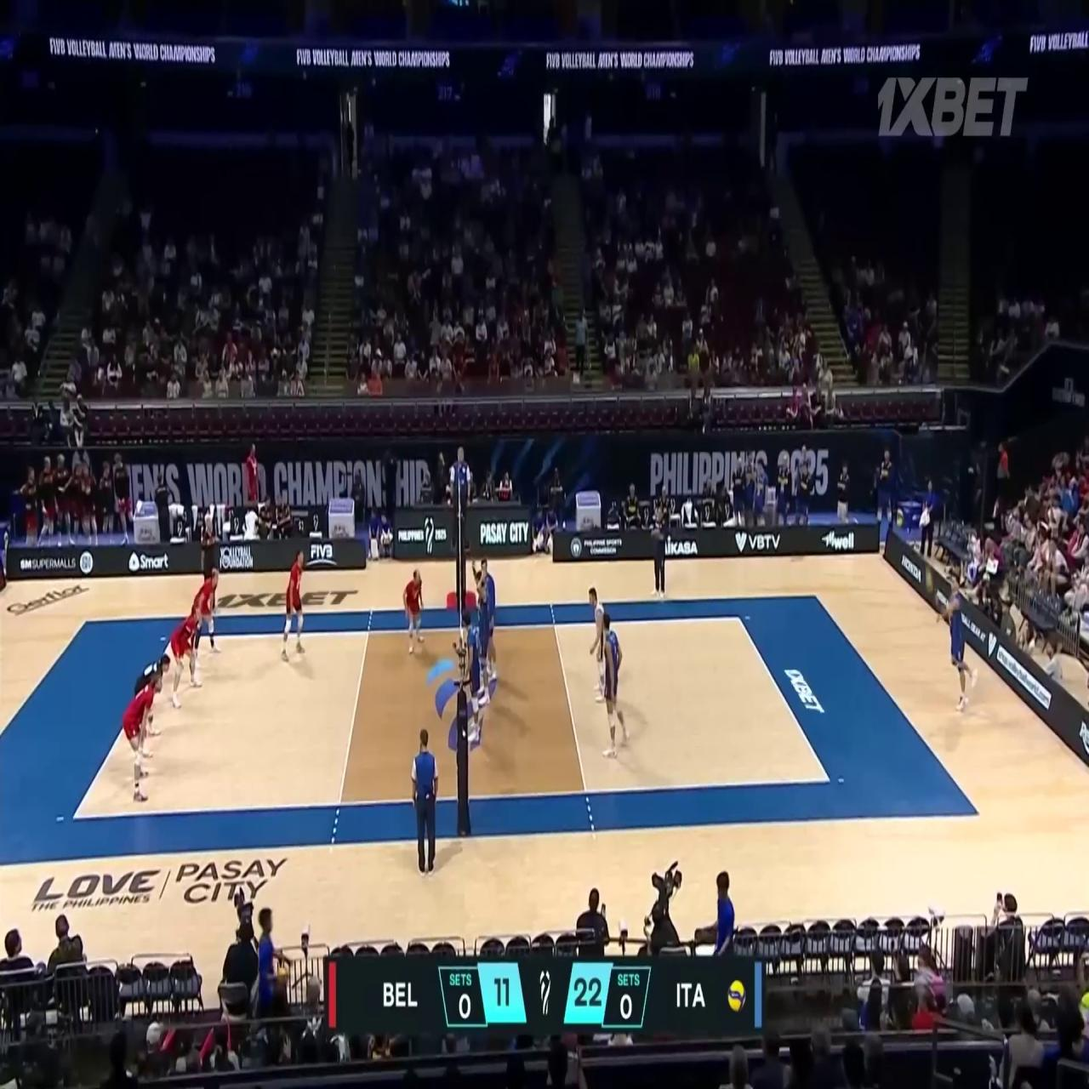ball: (925, 573, 932, 590)
